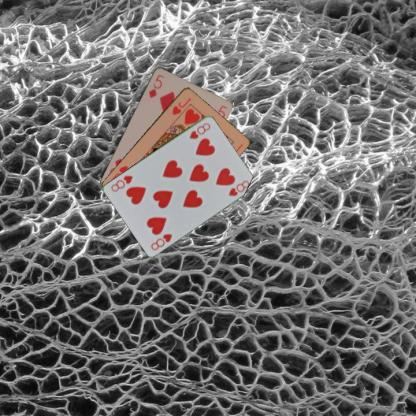5d: (146, 72, 166, 98)
8h: (186, 119, 212, 140), (148, 231, 173, 251)
Jh: (170, 95, 192, 117)
